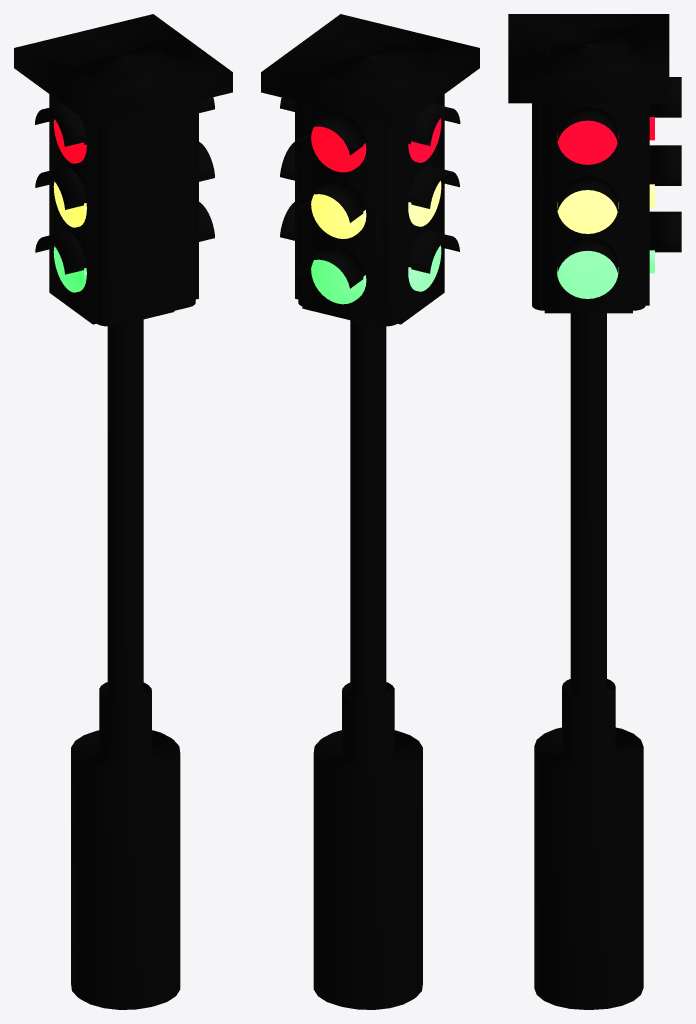
The model's file is semaforo.glb.
3 views of the same model, side by side, from view 1: azimuth 30°, elevation 25°; view 2: azimuth 150°, elevation 25°; view 3: azimuth 270°, elevation 25° (orthographic).
Parts seen in each view (by area): view 1: signal; view 2: signal; view 3: signal.
Part boxes in pixels (left/top/right/bottom): signal: left=14, top=14, right=232, bottom=1009; signal: left=261, top=14, right=479, bottom=1009; signal: left=508, top=14, right=681, bottom=1009.
Bounding box in the file's own units: 2 × 11.84 × 1.97.
